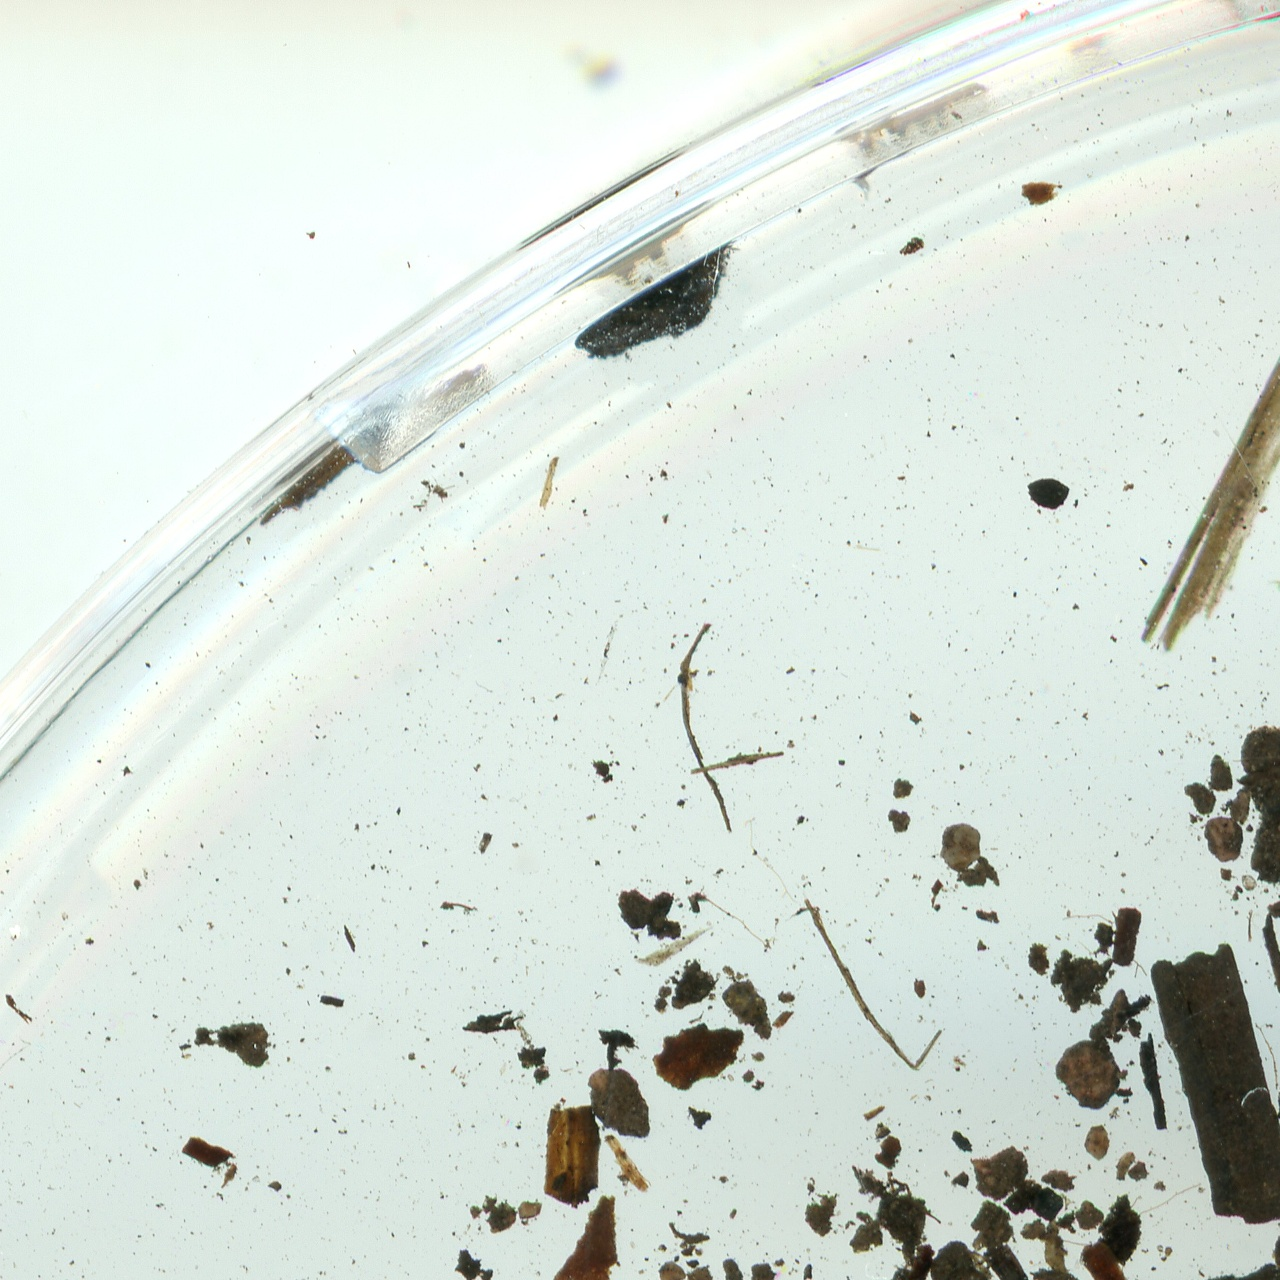arthropod: (1263, 557, 1280, 702)
